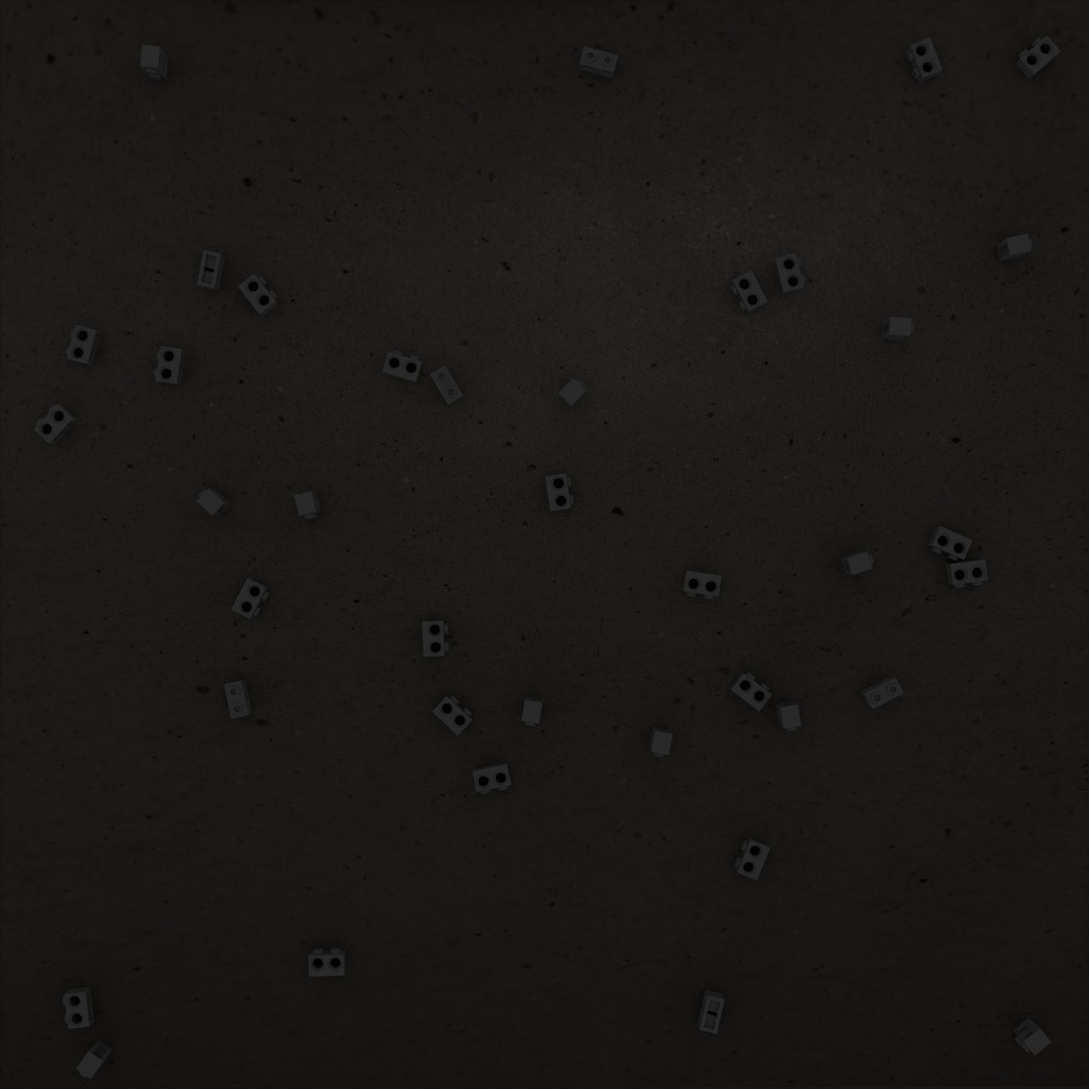lego: (1015, 35, 1061, 80), (33, 404, 78, 445), (238, 274, 279, 317), (729, 672, 772, 712), (906, 37, 943, 83), (432, 695, 473, 736), (730, 270, 768, 314), (927, 526, 973, 562), (231, 578, 270, 619), (734, 837, 770, 881), (1013, 1017, 1052, 1056), (860, 676, 904, 709), (76, 1040, 113, 1079), (66, 325, 101, 366), (382, 350, 423, 384), (430, 365, 464, 406), (773, 253, 806, 295), (63, 987, 95, 1029), (579, 46, 618, 79), (154, 346, 186, 386), (697, 989, 725, 1034), (472, 762, 511, 794), (946, 559, 988, 588), (197, 250, 225, 292), (308, 947, 347, 977), (682, 570, 722, 599), (545, 473, 574, 512), (224, 679, 252, 719), (996, 233, 1032, 262), (140, 45, 169, 80), (196, 488, 232, 516), (422, 620, 449, 657), (558, 378, 586, 409), (840, 551, 874, 575), (881, 317, 914, 341), (294, 491, 322, 519), (775, 701, 801, 731), (649, 726, 673, 757), (521, 696, 543, 726)
